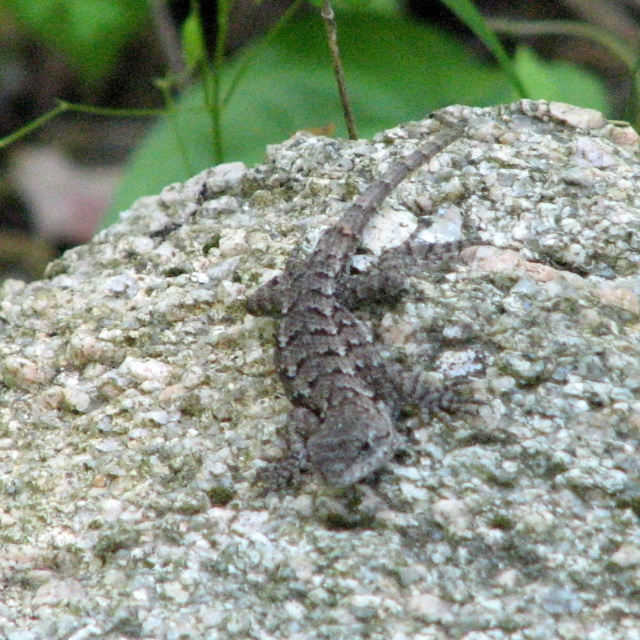Lizard: (246, 110, 489, 490)
